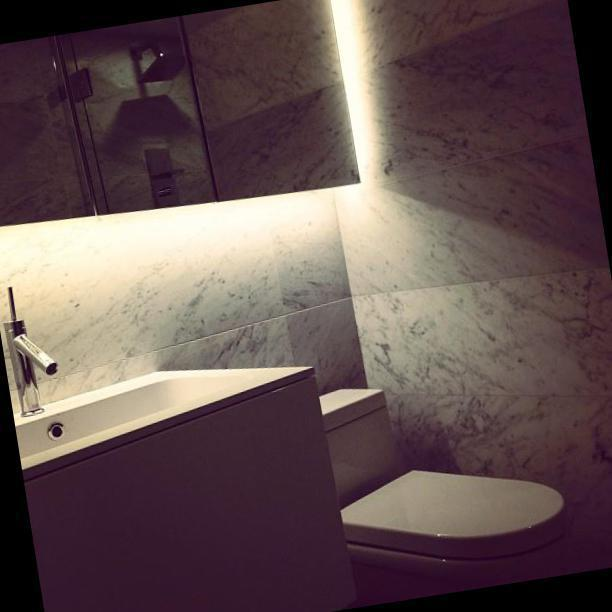Lavamanos: (0, 243, 255, 467)
Sanitario: (268, 357, 589, 612)
